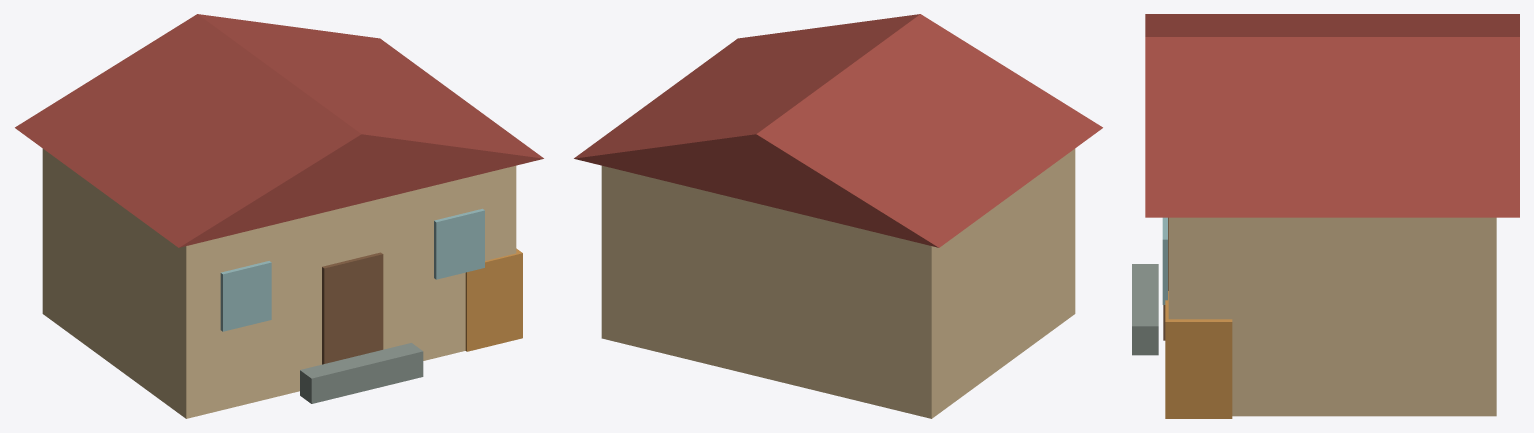
File: bld_farmhouse.glb
The picture shows the model from 3 angles, left to right: view 1: azimuth 30°, elevation 25°; view 2: azimuth 150°, elevation 25°; view 3: azimuth 270°, elevation 25°; orthographic projection. The views are drawn at different scales.
Parts seen in each view (by area): view 1: bld_farmhouse; view 2: bld_farmhouse; view 3: bld_farmhouse.
Boxes of the visible parts, <box> form: bld_farmhouse: <box>15,14,543,418</box>; bld_farmhouse: <box>574,14,1102,418</box>; bld_farmhouse: <box>1132,14,1519,418</box>.
Size of the model in its own units: 3.6 by 2.37 by 2.9.
1 material, 1 textured.
